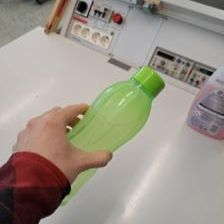bottle: (50, 61, 165, 210)
